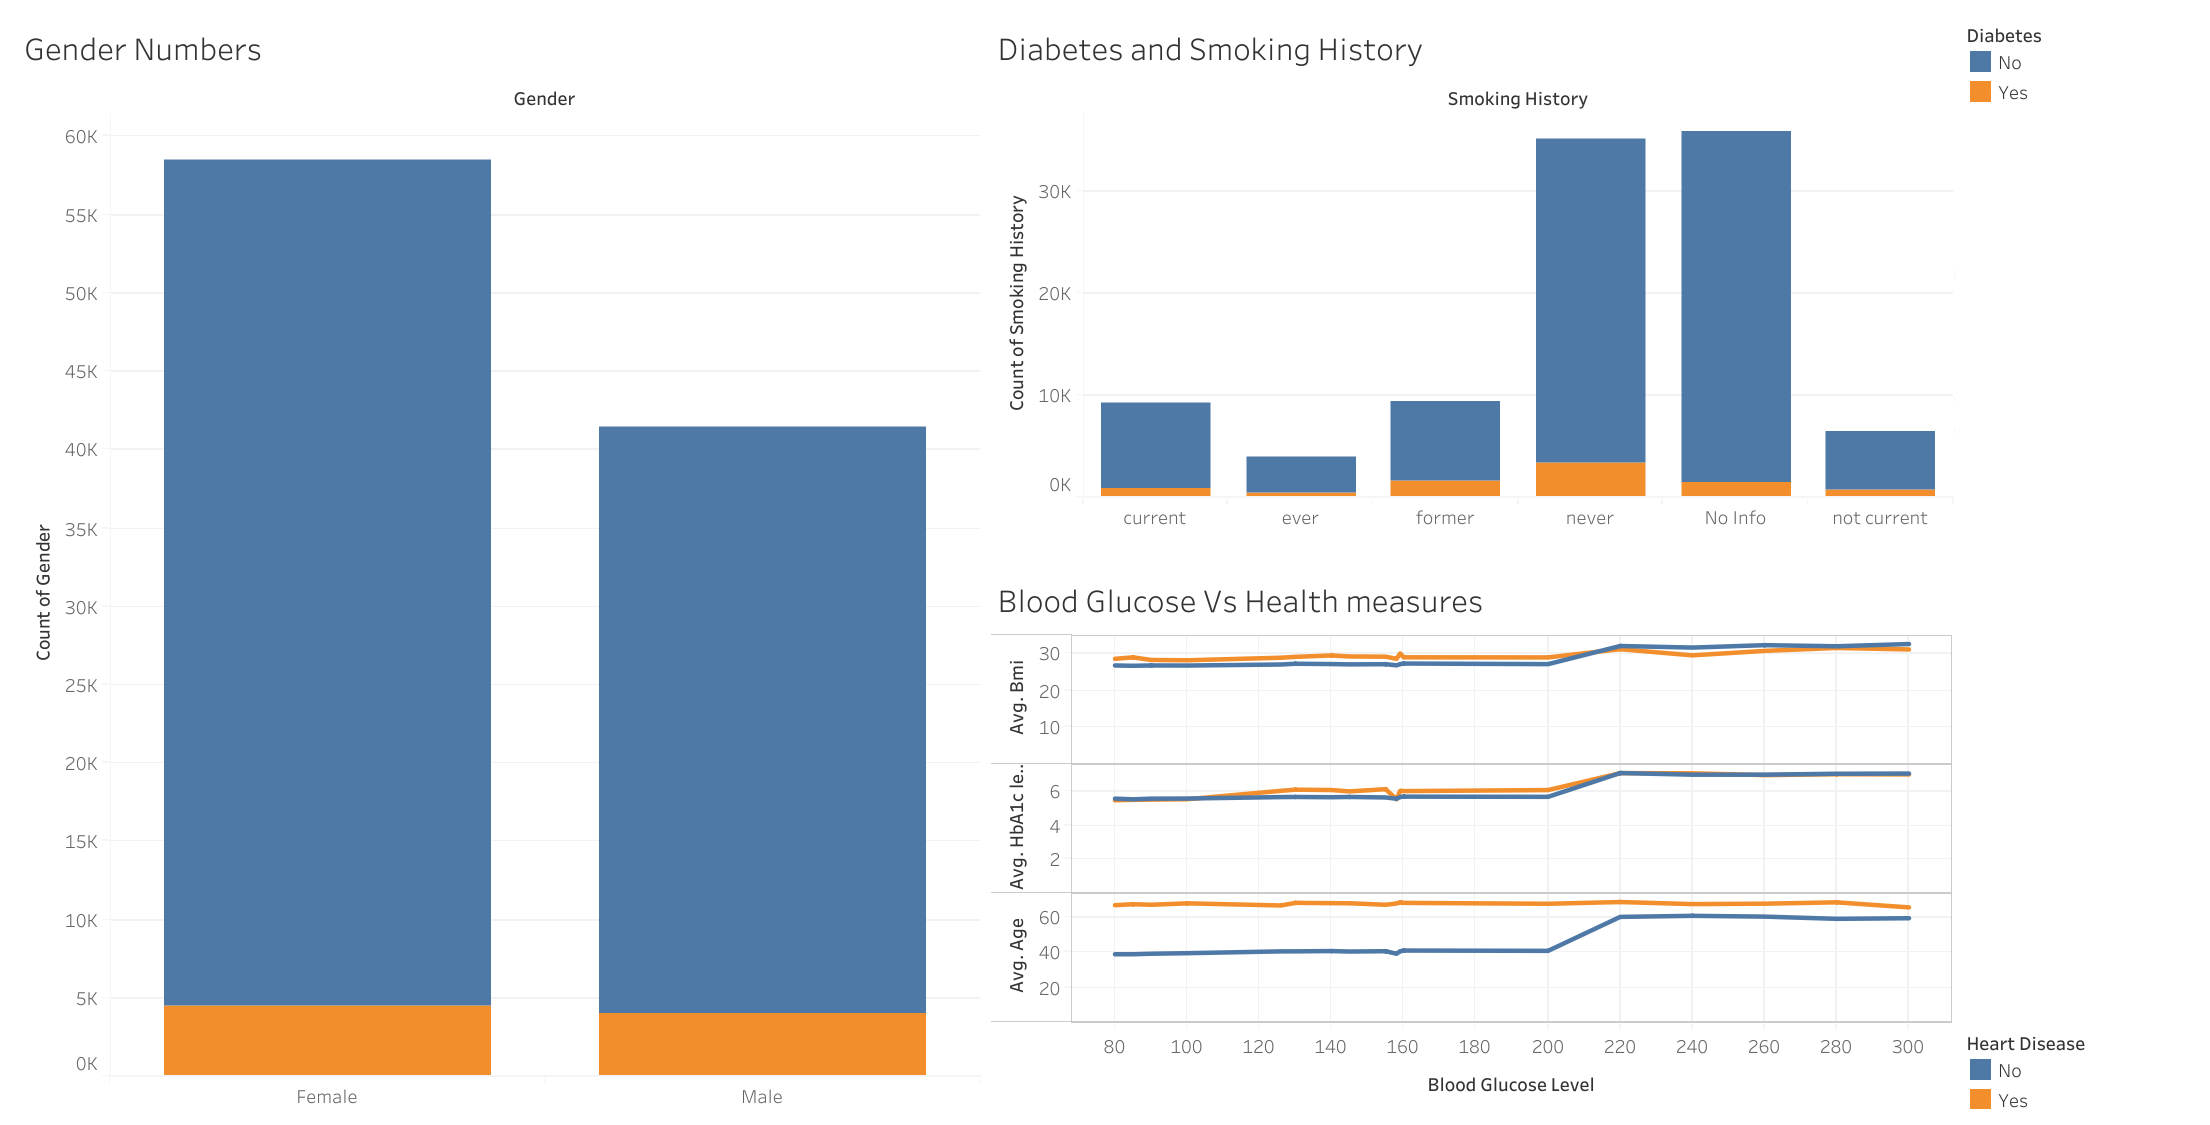

The page's visual inventory and layout, read from the dashboard file:
{"tool":"tableau","page":{"name":"Dashboard 2","canvas":[1000,1000],"units":"permille","ordinal":1},"visuals":[{"type":"worksheet","title":"Sheet 7","mark":"Automatic","rows":["gender"],"cols":["gender"],"box":[4.1,6.5,454.7,987]},{"type":"worksheet","title":"Sheet 6","mark":"Bar","rows":["smoking_history"],"cols":["smoking_history"],"box":[458.8,6.5,454.6,493.5]},{"type":"legend","title":"Sheet 6","param":"[federated.0e6ix5a0usdavc164fa0r1173jj1].[none:diabetes:nk]","box":[913.4,6.5,82.5,546.3]},{"type":"worksheet","title":"Sheet 5","mark":"Automatic","rows":["bmi","HbA1c_level","age"],"cols":["blood_glucose_level"],"box":[458.8,500,454.6,493.5]},{"type":"legend","title":"Sheet 5","param":"[federated.0e6ix5a0usdavc164fa0r1173jj1].[none:heart_disease:nk]","box":[913.4,552.8,82.5,68.3]}]}

Visuals, with their boxes on the dashboard's canvas, which has no fixed pixel size, in thousandths of its width and height (x1, y1, x2, y2). These are canvas units, not pixel positions in the 2210x1125 screenshot, which may show the page scaled, cropped or inside an application window:
"Sheet 7" worksheet: (4, 6, 459, 994)
"Sheet 6" worksheet (Bar marks): (459, 6, 913, 500)
"Sheet 6" legend: (913, 6, 996, 553)
"Sheet 5" worksheet: (459, 500, 913, 994)
"Sheet 5" legend: (913, 553, 996, 621)
